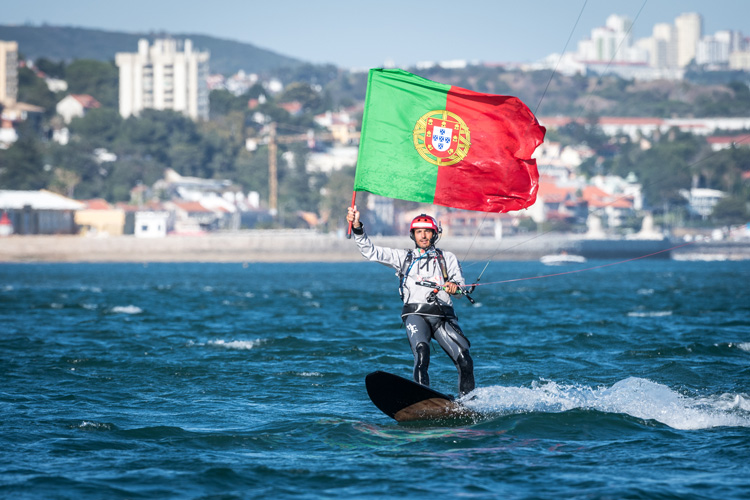Flag: (352, 67, 547, 214)
